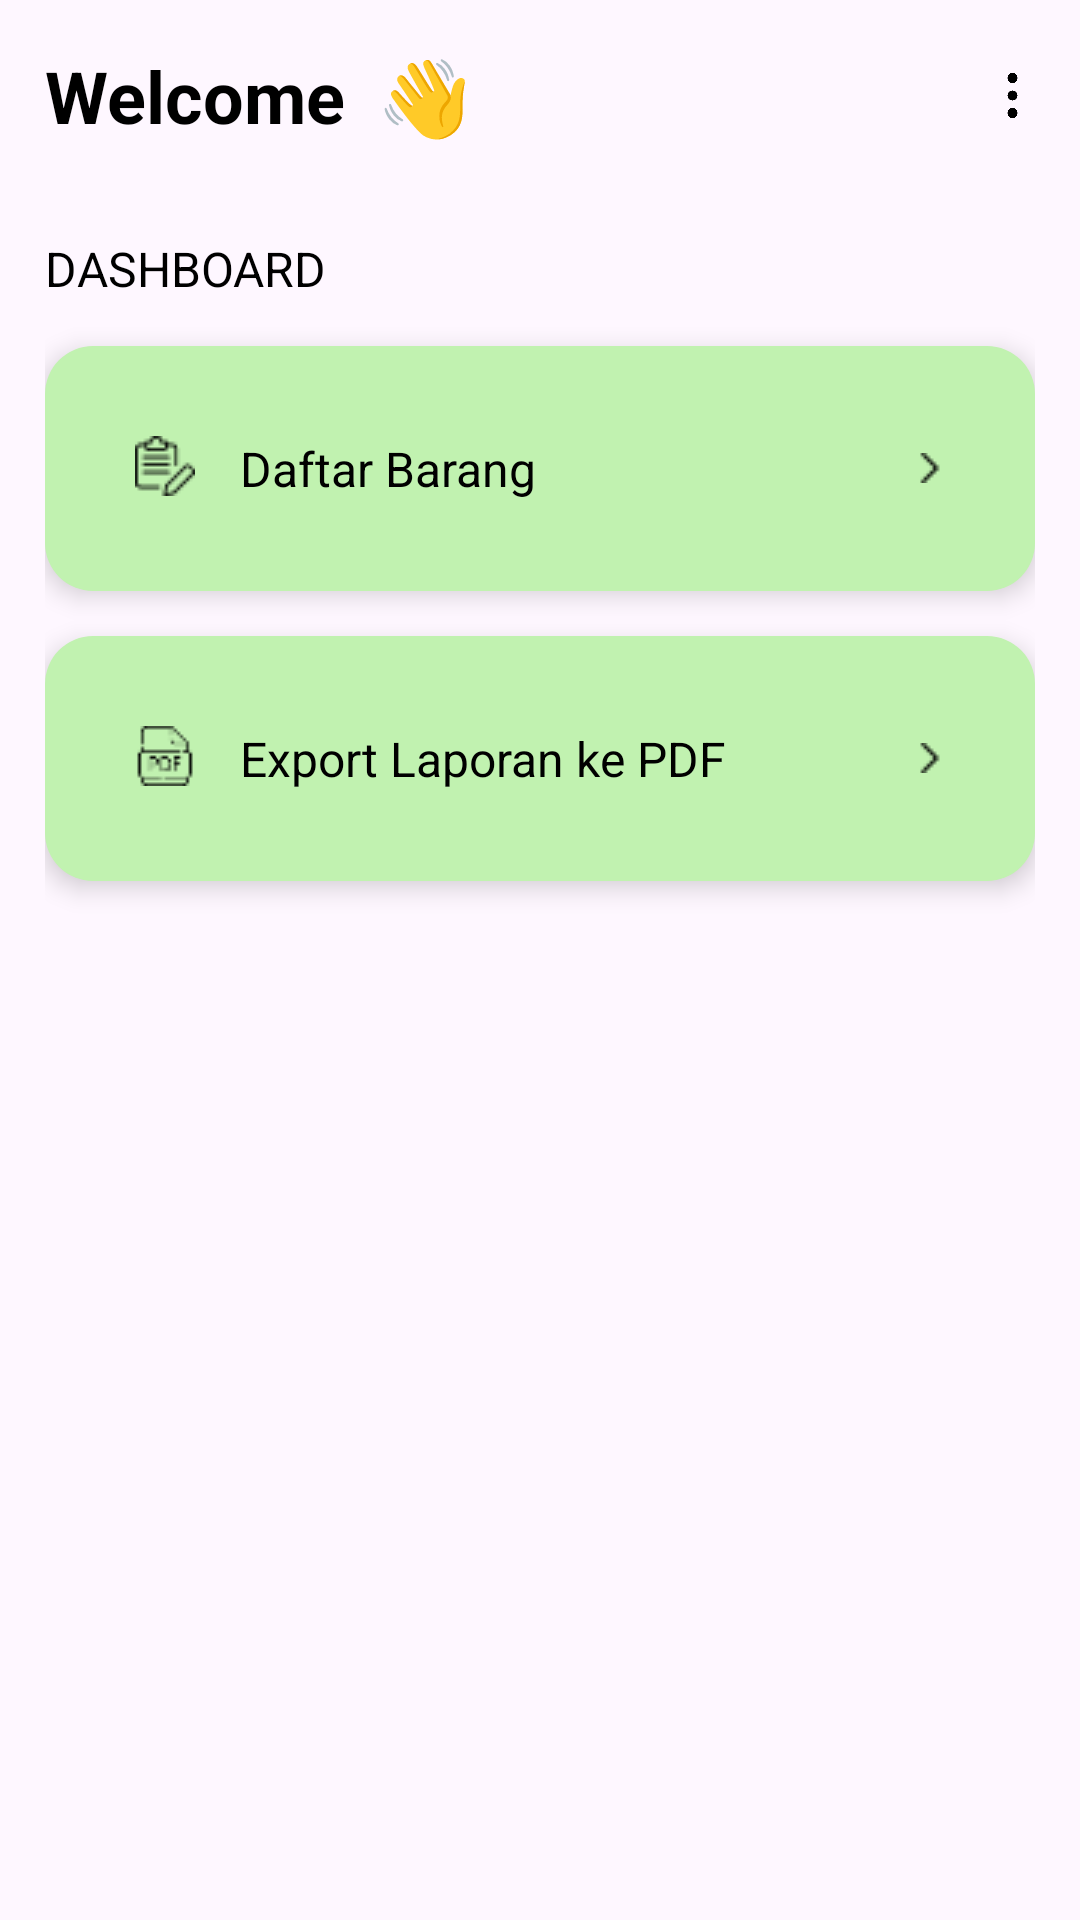

Icon click points for this 1080 × 1920 phone screenshot, format point (x, y):
arrow next: point (930, 468), point (930, 758)
reg items: point (165, 466)
